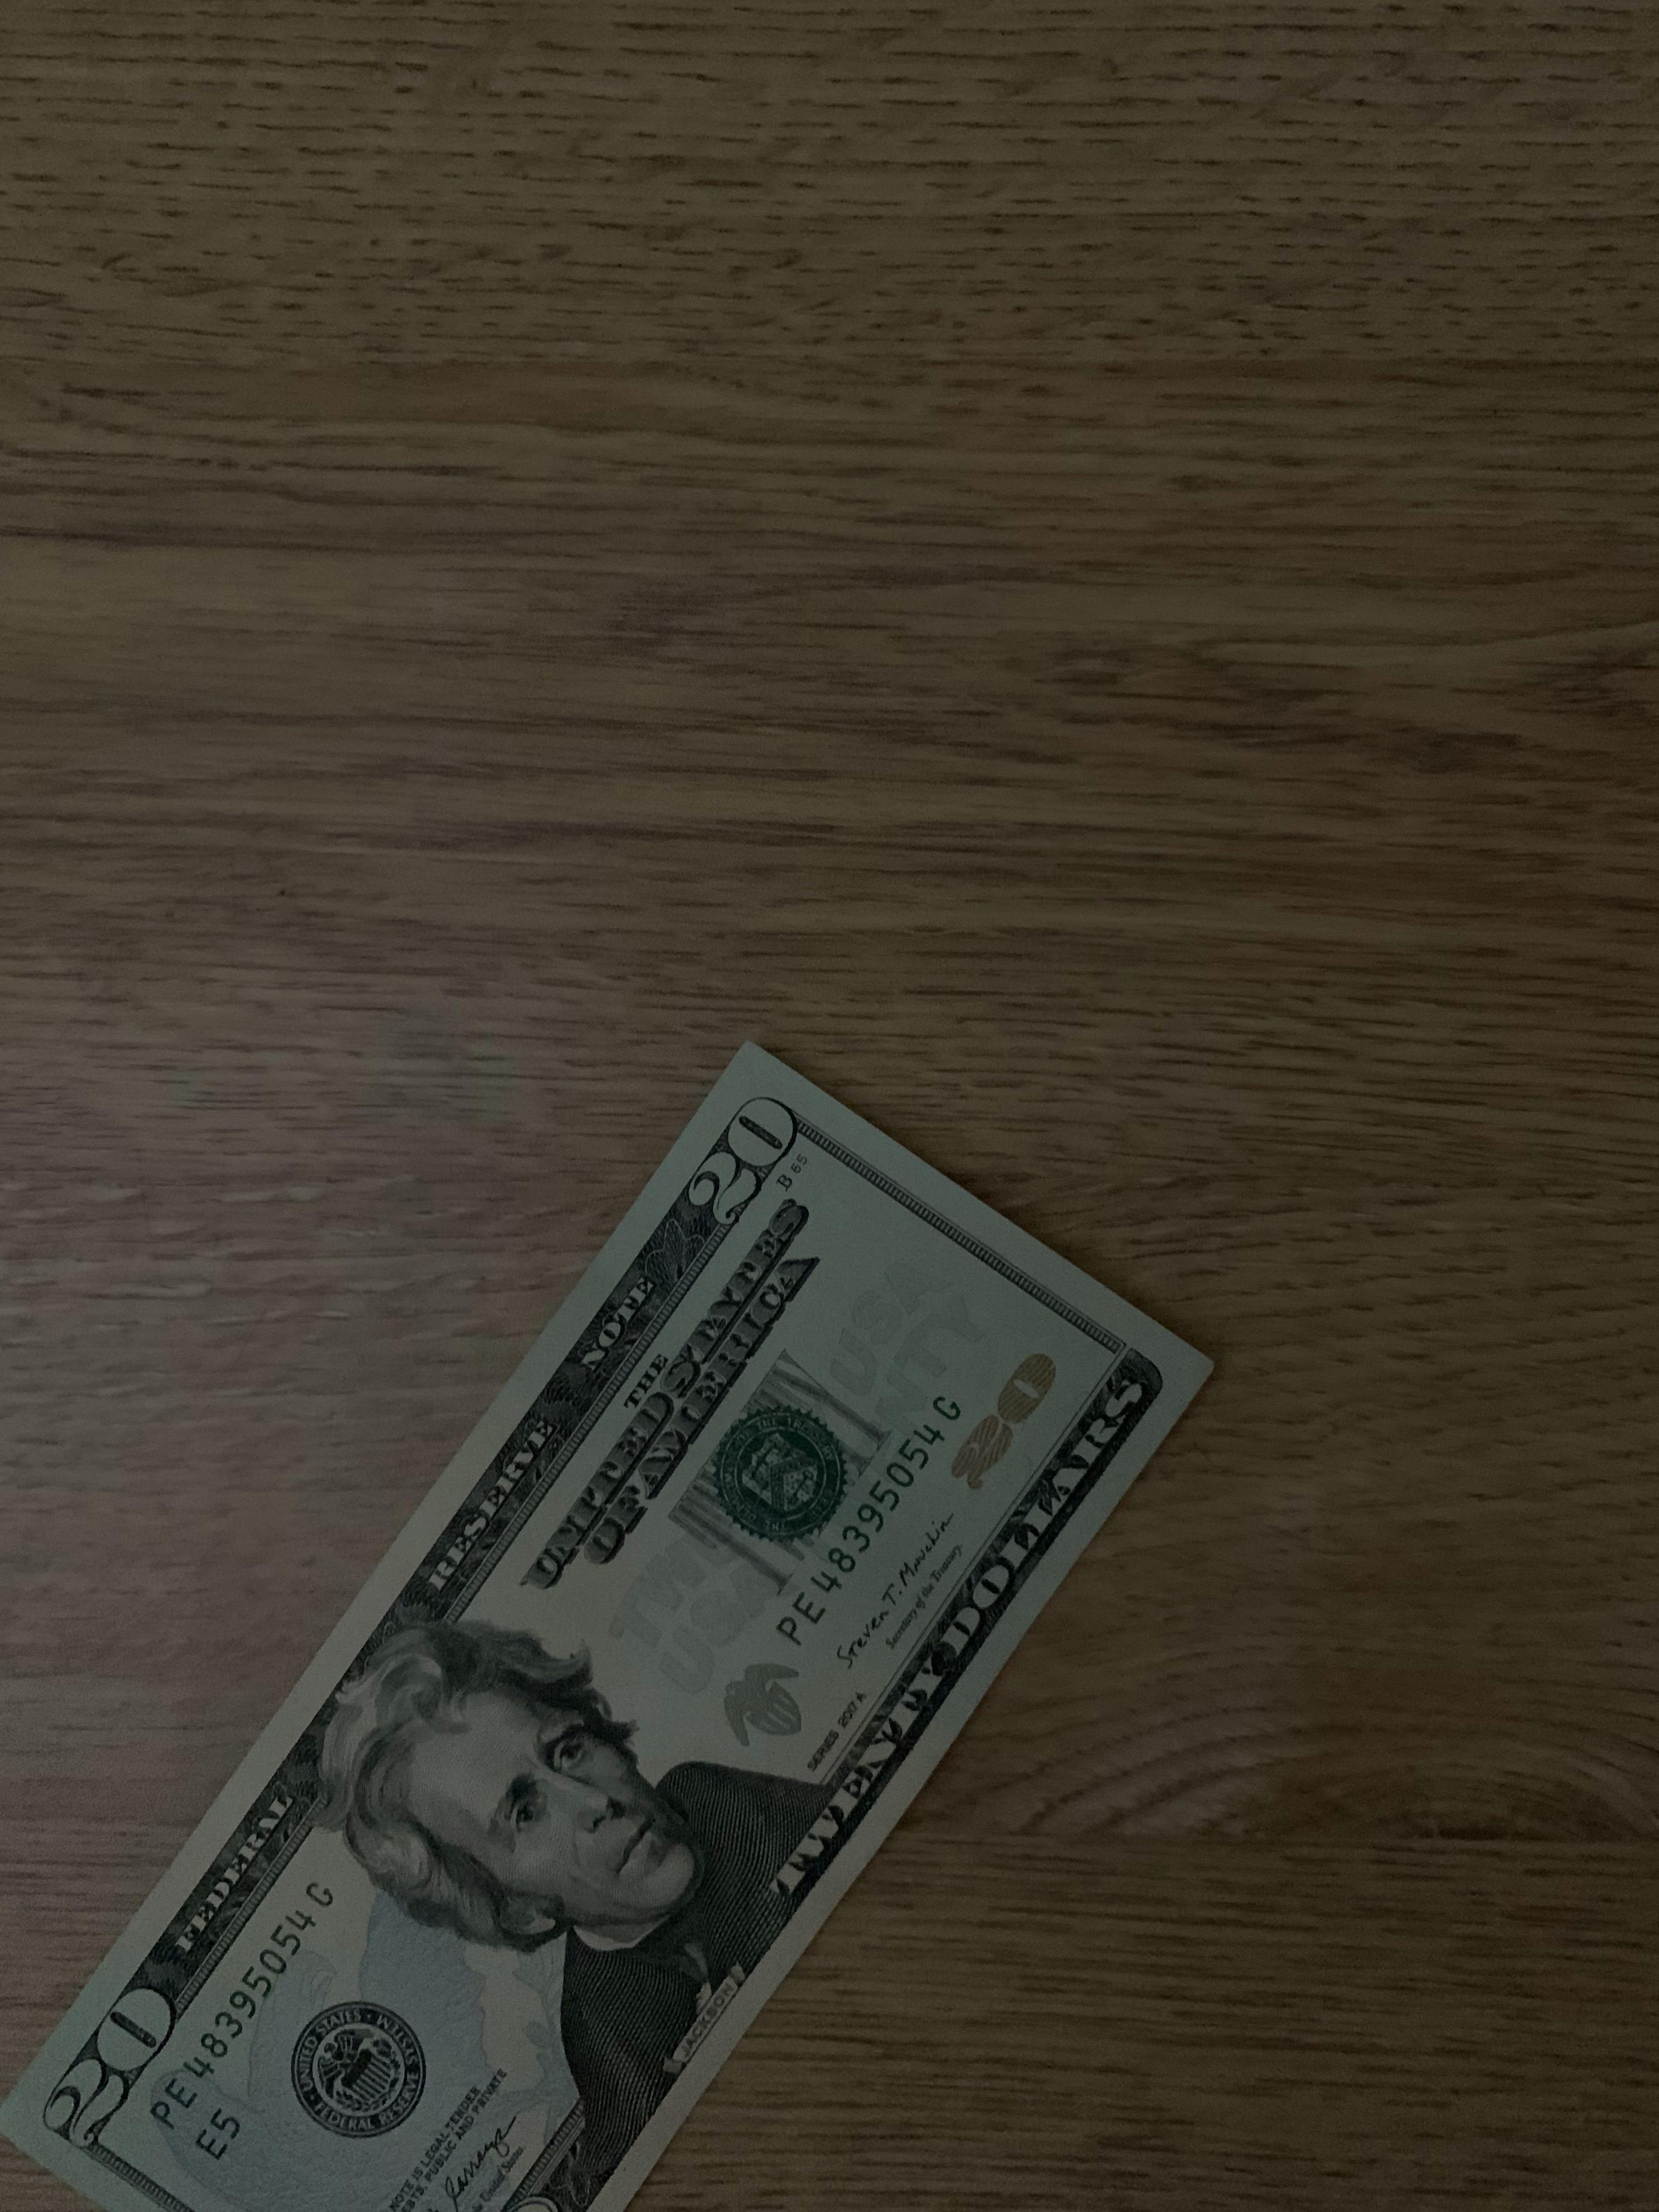TwentyBill: (10, 1042, 1211, 2207)
